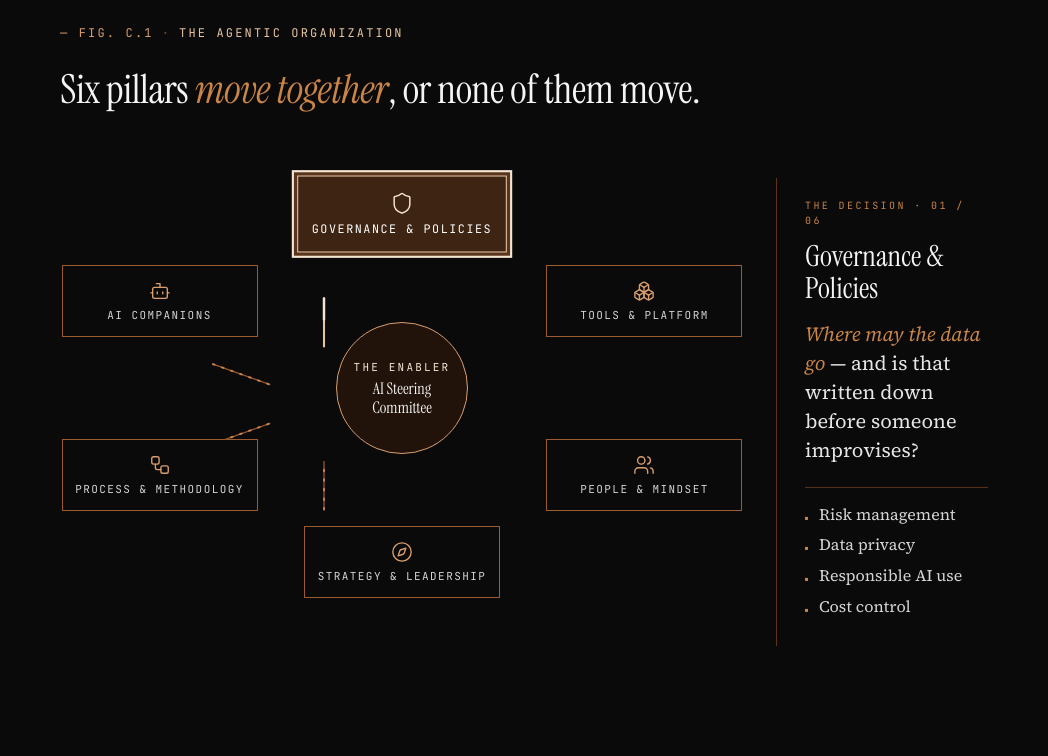
Test: hover opens exactly one decision › the pointer beats the caret where they disagree
Hover over the button with test id "shape-pillar-tools" at (644, 301), box [546, 265, 742, 337]
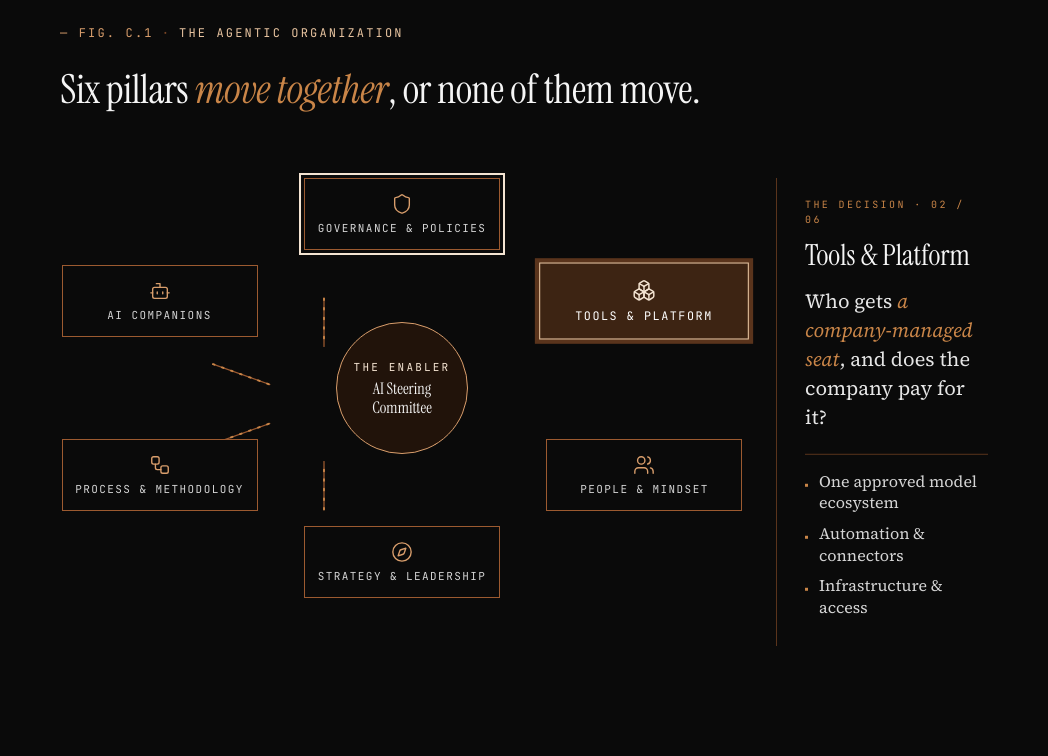
Expected: the element with test id "shape-decision-tools" is shown, [805, 197, 988, 627]
Move the pointer off the button with test id "shape-pillar-tools", box [540, 262, 749, 340]
(page scrolled)
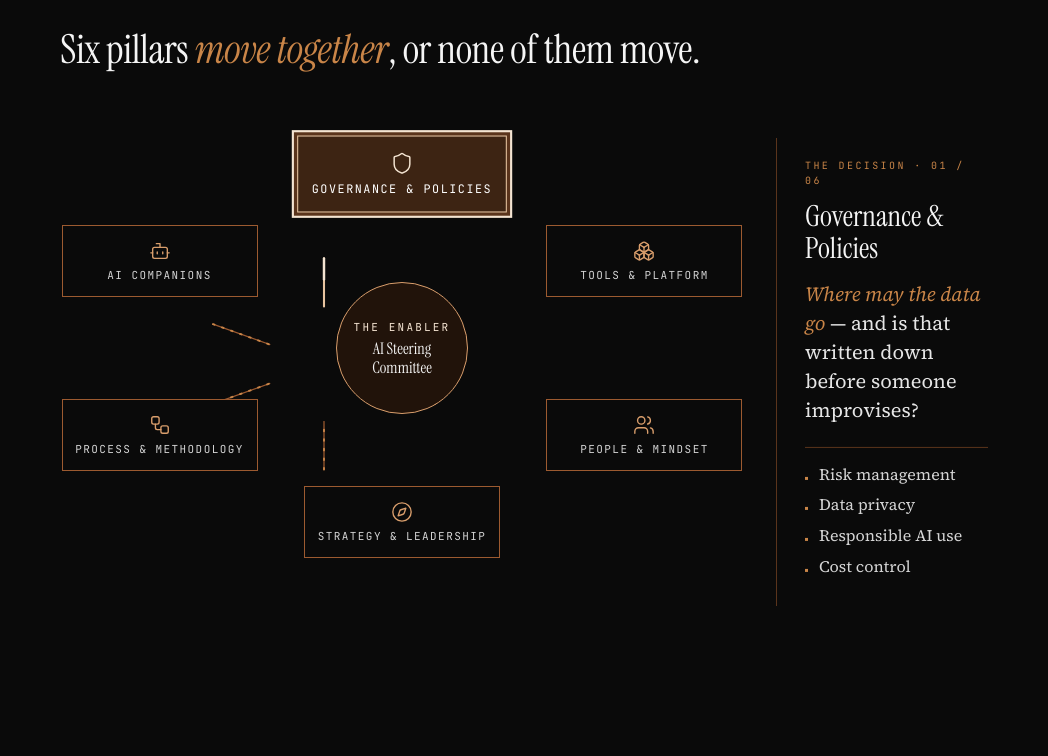
Expected: the element with test id "shape-decision-governance" is shown, [805, 158, 988, 586]
